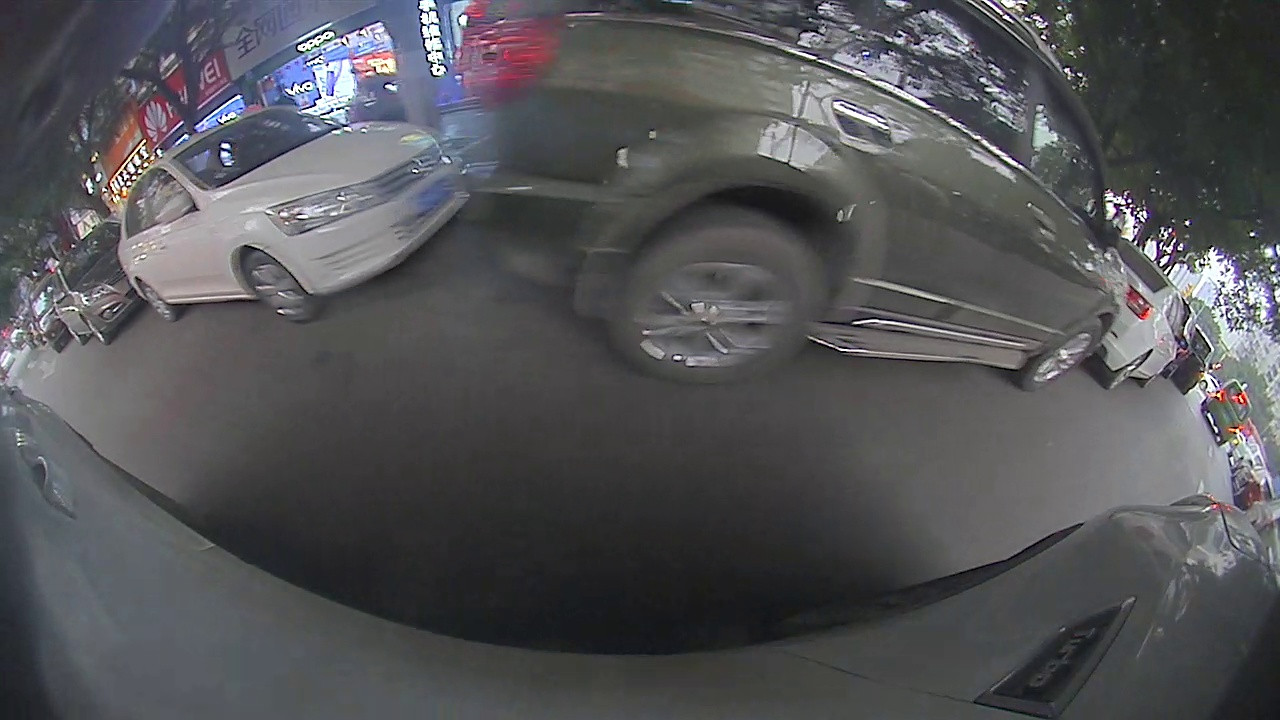car: (447, 1, 1117, 390), (116, 106, 472, 326)
front: (1026, 316, 1104, 392), (241, 251, 311, 320), (83, 316, 107, 347)
rear: (617, 227, 820, 387), (137, 279, 178, 324), (1109, 353, 1149, 392)
